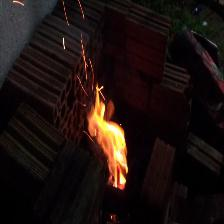fire: (83, 83, 134, 195)
